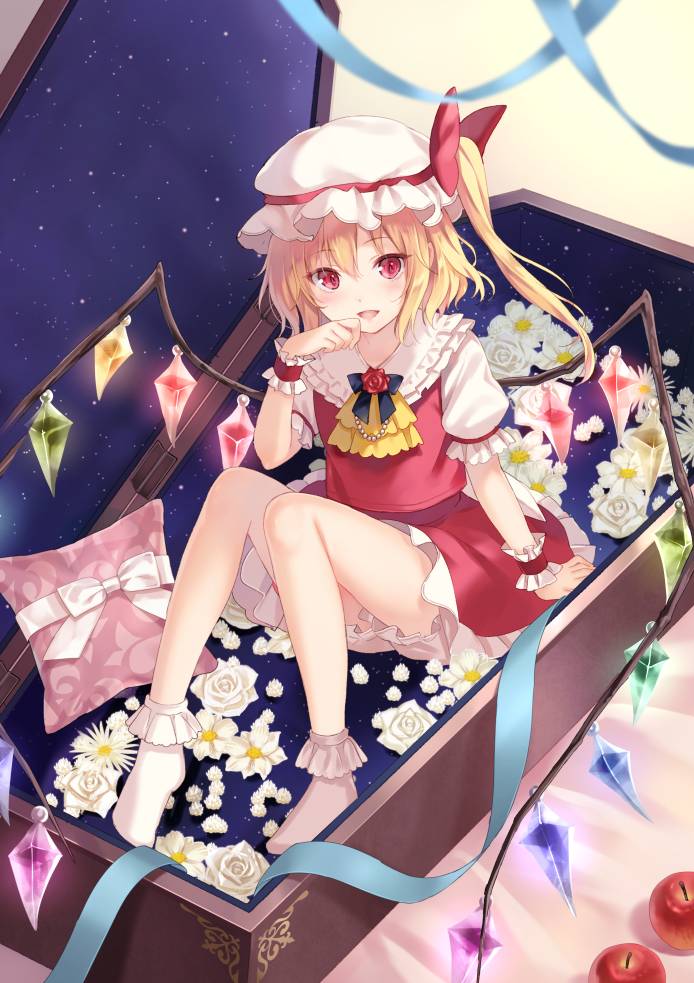纸片人正脸: (262, 175, 470, 346)
